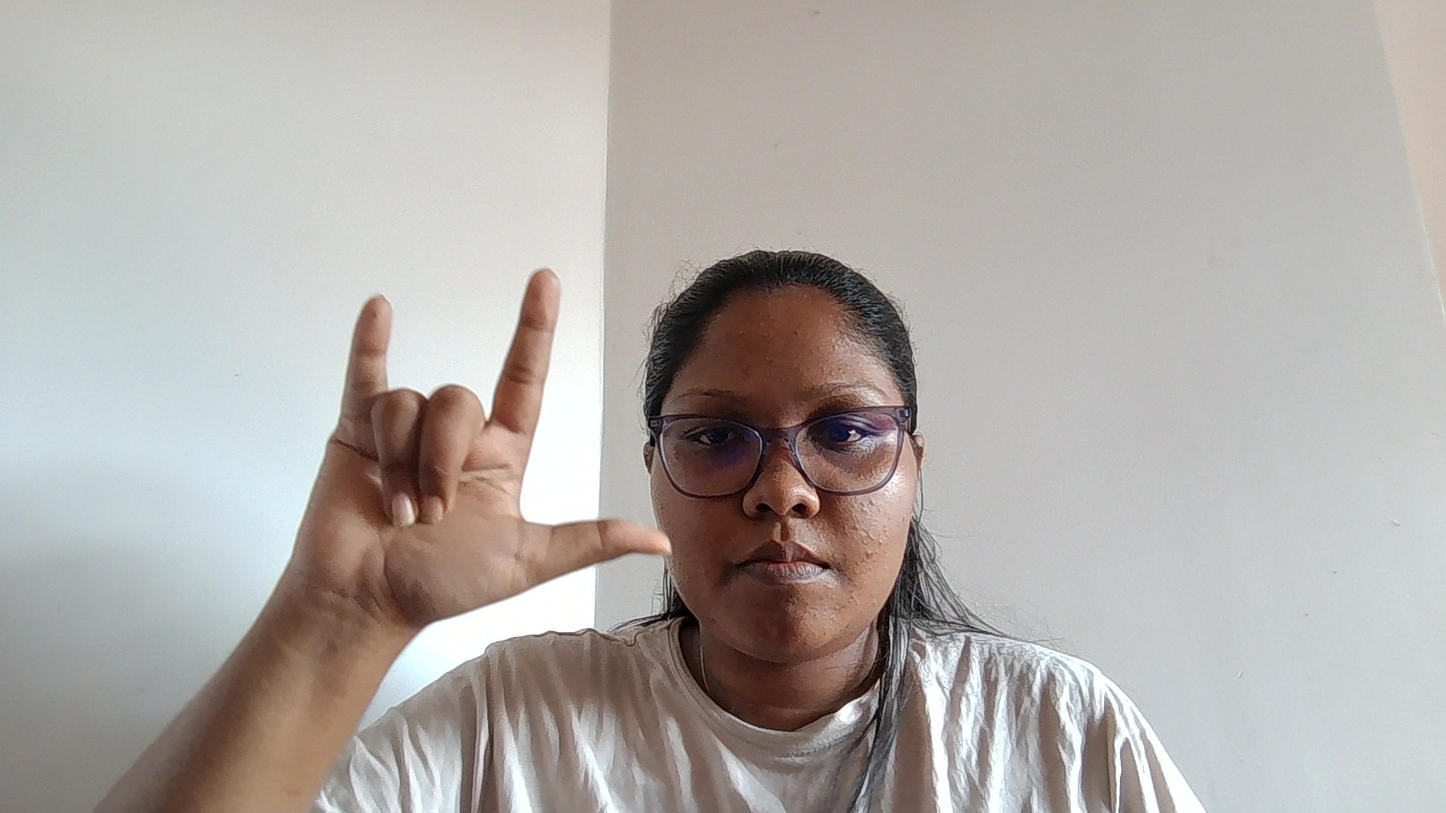I Love You: (279, 215, 686, 673)
